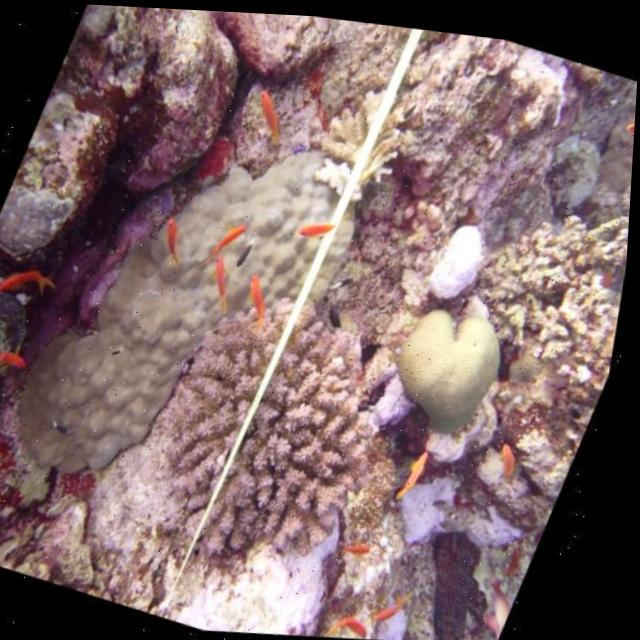Bleached Coral: (60, 424, 208, 580), (181, 546, 364, 640), (401, 186, 515, 324)
Healthy Coral: (150, 322, 379, 562)
